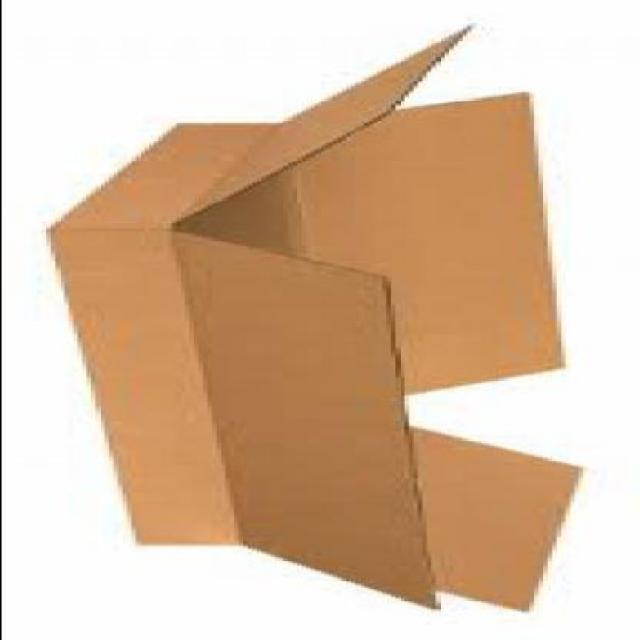box: (39, 18, 599, 640)
